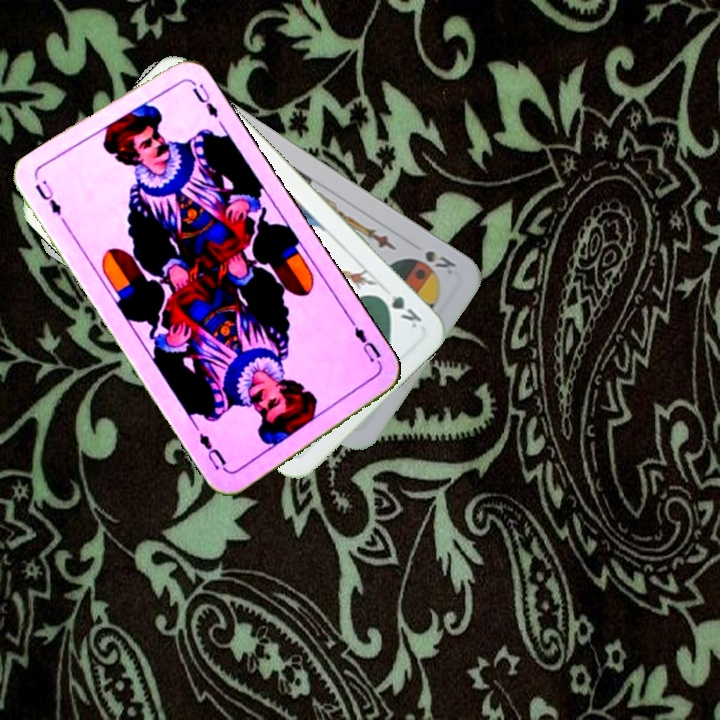EU: (347, 316, 385, 369), (30, 176, 64, 218)
GK: (373, 290, 425, 331)
SK: (421, 246, 459, 278)
